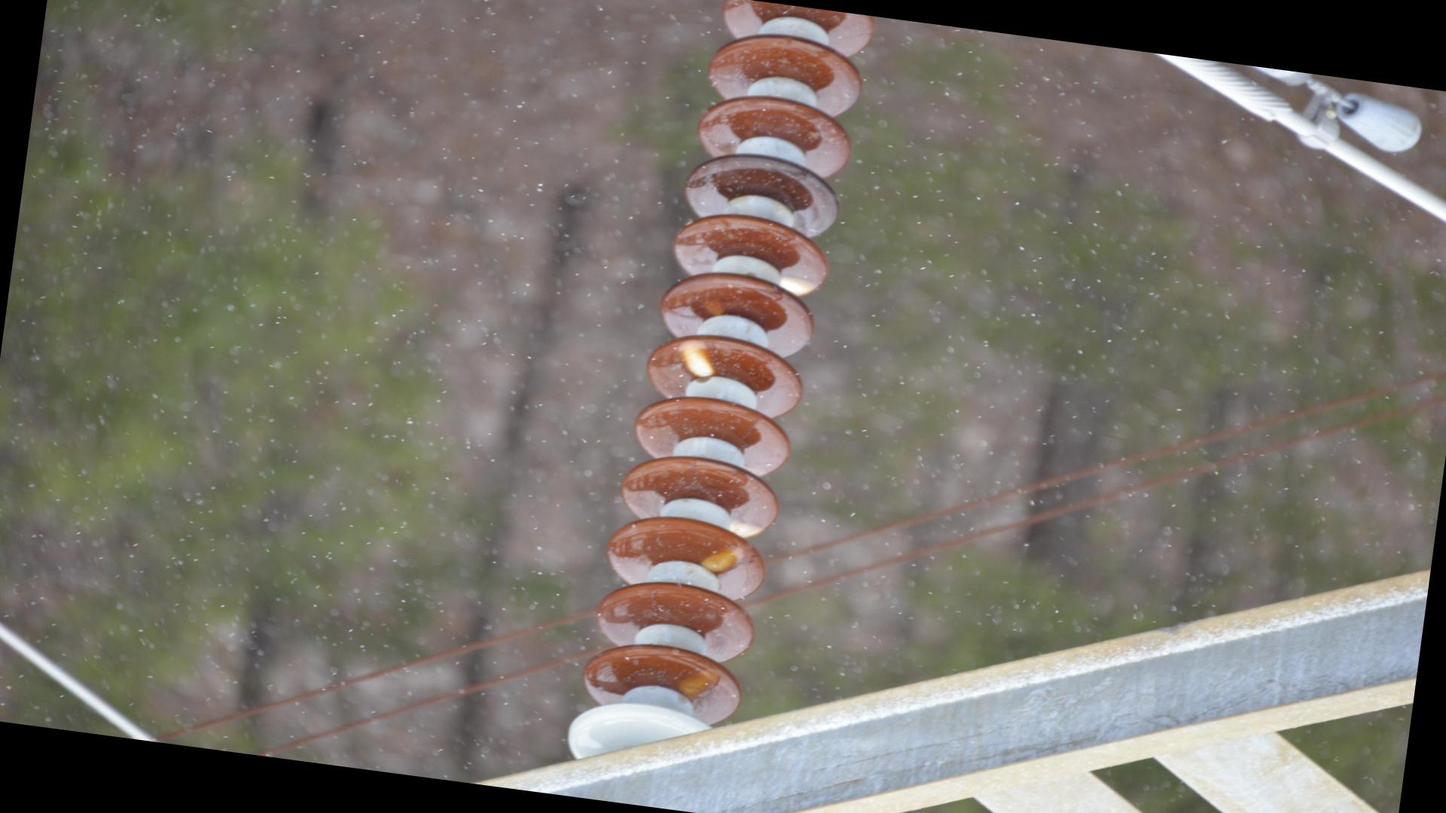damper: (1221, 62, 1434, 171)
